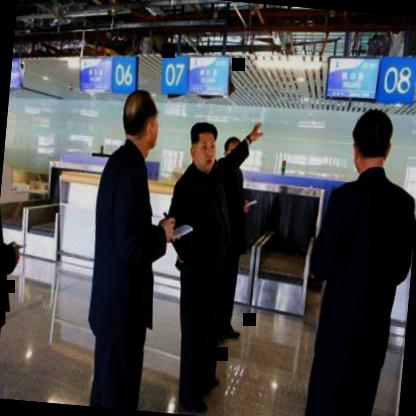head: (345, 104, 398, 180), (117, 85, 166, 159), (184, 116, 222, 175), (223, 132, 244, 168)
